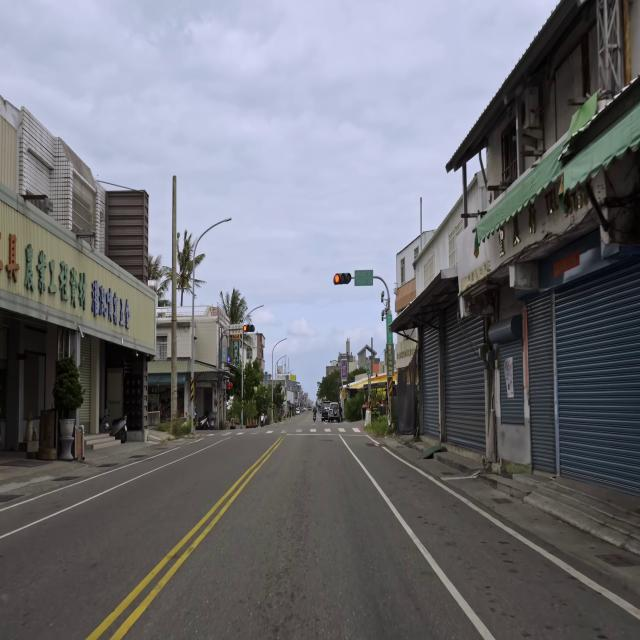red light: (333, 272, 352, 285), (242, 323, 255, 333)
